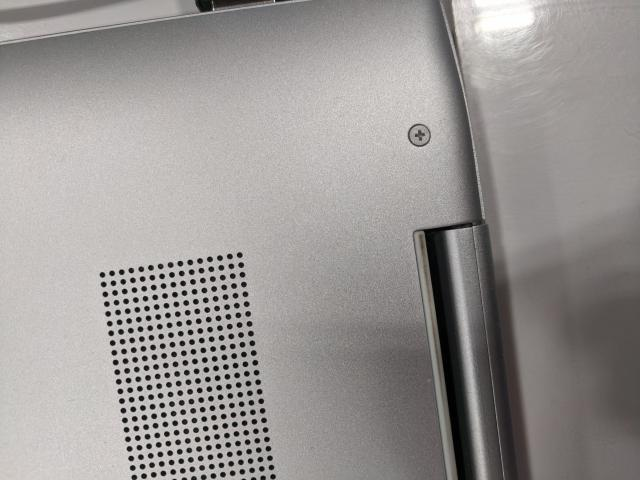CRS: (407, 123, 432, 146)
